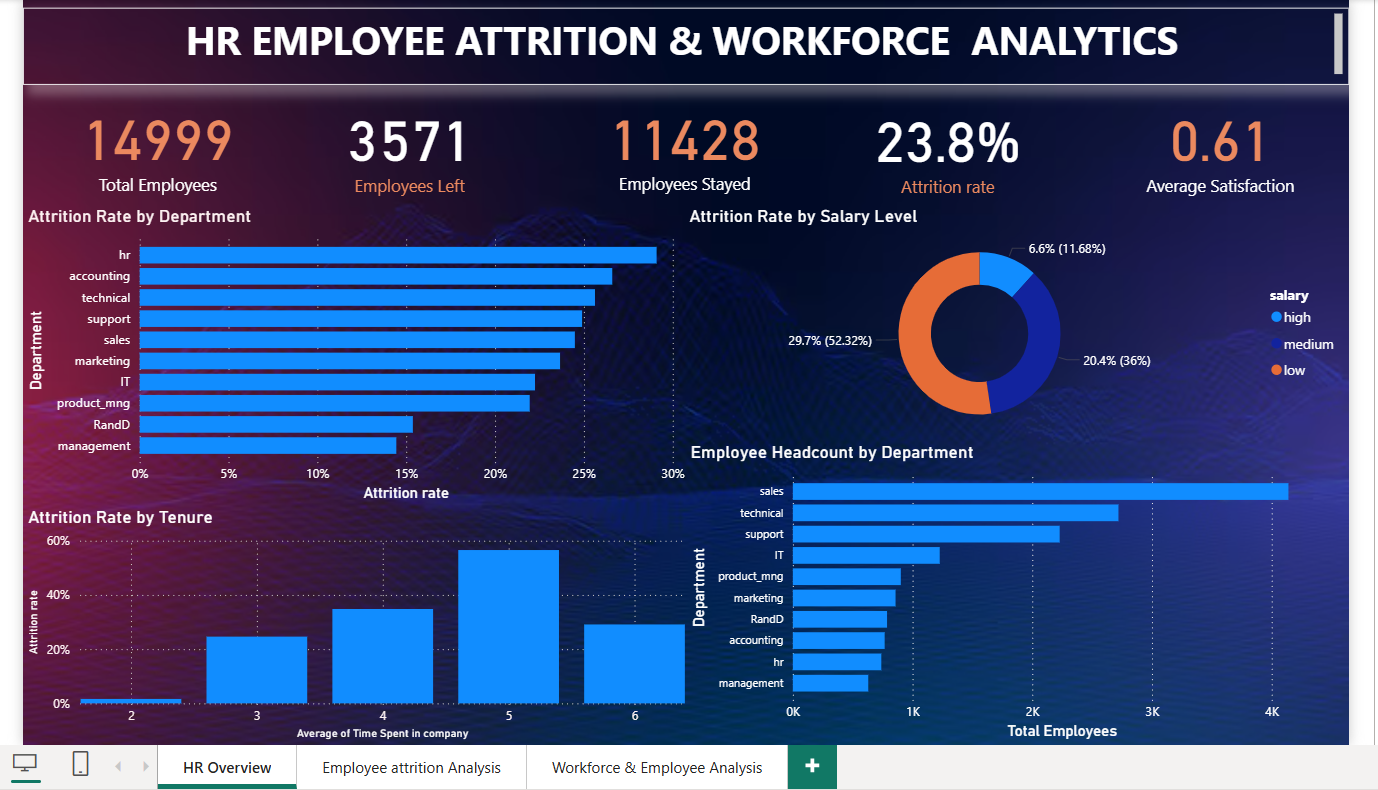

Layout of this report page (visuals, bound fields, positions):
{"tool":"powerbi","page":{"name":"HR Overview","canvas":[1280,720],"ordinal":0},"visuals":[{"type":"card","fields":{"Values":["HR_Employee_Data.Total Employees"]},"box":[42.2,80.8,178.6,105],"z":0},{"type":"card","fields":{"Values":["HR_Employee_Data.Employees Left"]},"box":[266.6,83.2,213.5,102.5],"z":1000},{"type":"card","fields":{"Values":["HR_Employee_Data.Employees Stayed"]},"box":[526,83.2,201.5,102.5],"z":2000},{"type":"card","fields":{"Values":["HR_Employee_Data.Attrition rate"]},"box":[774.5,83.2,222,101.3],"z":3000},{"type":"barChart","title":"Attrition Rate by Department","fields":{"Y":["HR_Employee_Data.Attrition rate"],"Category":["HR_Employee_Data.Department"]},"box":[0,199.1,638.2,290.8],"z":4000},{"type":"donutChart","title":"Attrition Rate by Salary Level","fields":{"Category":["HR_Employee_Data.salary"],"Y":["HR_Employee_Data.Attrition rate"]},"box":[638.6,198.6,641.4,228.6],"z":5000},{"type":"textbox","box":[0,0,1280,71.2],"z":6000},{"type":"card","fields":{"Values":["HR_Employee_Data.Satisfaction Rate"]},"box":[1037.5,84.5,222,101.3],"z":7000},{"type":"clusteredColumnChart","title":"Attrition Rate by Tenure","fields":{"Category":["HR_Employee_Data.time_spend_company"],"Y":["HR_Employee_Data.Attrition rate"]},"box":[0,490,644,230],"z":8000},{"type":"clusteredBarChart","title":"Employee Headcount by Department","fields":{"Y":["HR_Employee_Data.Total Employees"],"Category":["HR_Employee_Data.Department"]},"box":[640,427.1,635.7,292.9],"z":9000}]}

Visuals, with their boxes on the page's 1280x720 design canvas (x1, y1, x2, y2). These are canvas units, not pixel positions in the 1378x790 screenshot, which may show the page scaled, cropped or inside an application window:
card - HR_Employee_Data.Total Employees: {"left": 42, "top": 81, "right": 221, "bottom": 186}
card - HR_Employee_Data.Employees Left: {"left": 267, "top": 83, "right": 480, "bottom": 186}
card - HR_Employee_Data.Employees Stayed: {"left": 526, "top": 83, "right": 728, "bottom": 186}
card - HR_Employee_Data.Attrition rate: {"left": 774, "top": 83, "right": 996, "bottom": 184}
"Attrition Rate by Department" barChart: {"left": 0, "top": 199, "right": 638, "bottom": 490}
"Attrition Rate by Salary Level" donutChart: {"left": 639, "top": 199, "right": 1280, "bottom": 427}
textbox: {"left": 0, "top": 0, "right": 1280, "bottom": 71}
card - HR_Employee_Data.Satisfaction Rate: {"left": 1038, "top": 84, "right": 1260, "bottom": 186}
"Attrition Rate by Tenure" clusteredColumnChart: {"left": 0, "top": 490, "right": 644, "bottom": 720}
"Employee Headcount by Department" clusteredBarChart: {"left": 640, "top": 427, "right": 1276, "bottom": 720}
